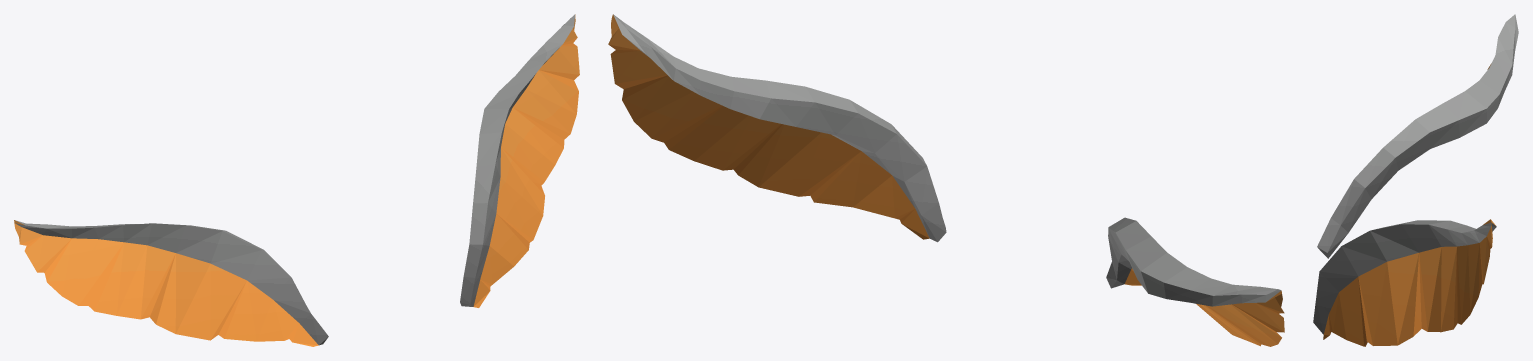
Rendered from CharSkyKid_Horn_MothAntenna.glb.
3 views of the same model, side by side, from view 1: azimuth 30°, elevation 25°; view 2: azimuth 150°, elevation 25°; view 3: azimuth 270°, elevation 25° (orthographic). The views are drawn at different scales.
Parts seen in each view (by area): view 1: CharSkyKid_Horn_MothAntenna; view 2: CharSkyKid_Horn_MothAntenna; view 3: CharSkyKid_Horn_MothAntenna.
Boxes of the visible parts, x1,y1,x2,y2 form: CharSkyKid_Horn_MothAntenna: [14, 14, 579, 346]; CharSkyKid_Horn_MothAntenna: [608, 14, 1284, 346]; CharSkyKid_Horn_MothAntenna: [1313, 14, 1518, 346].
Size of the model in its own units: 5.91 by 2 by 1.75.
Materials: 1 (1 with a texture image).
